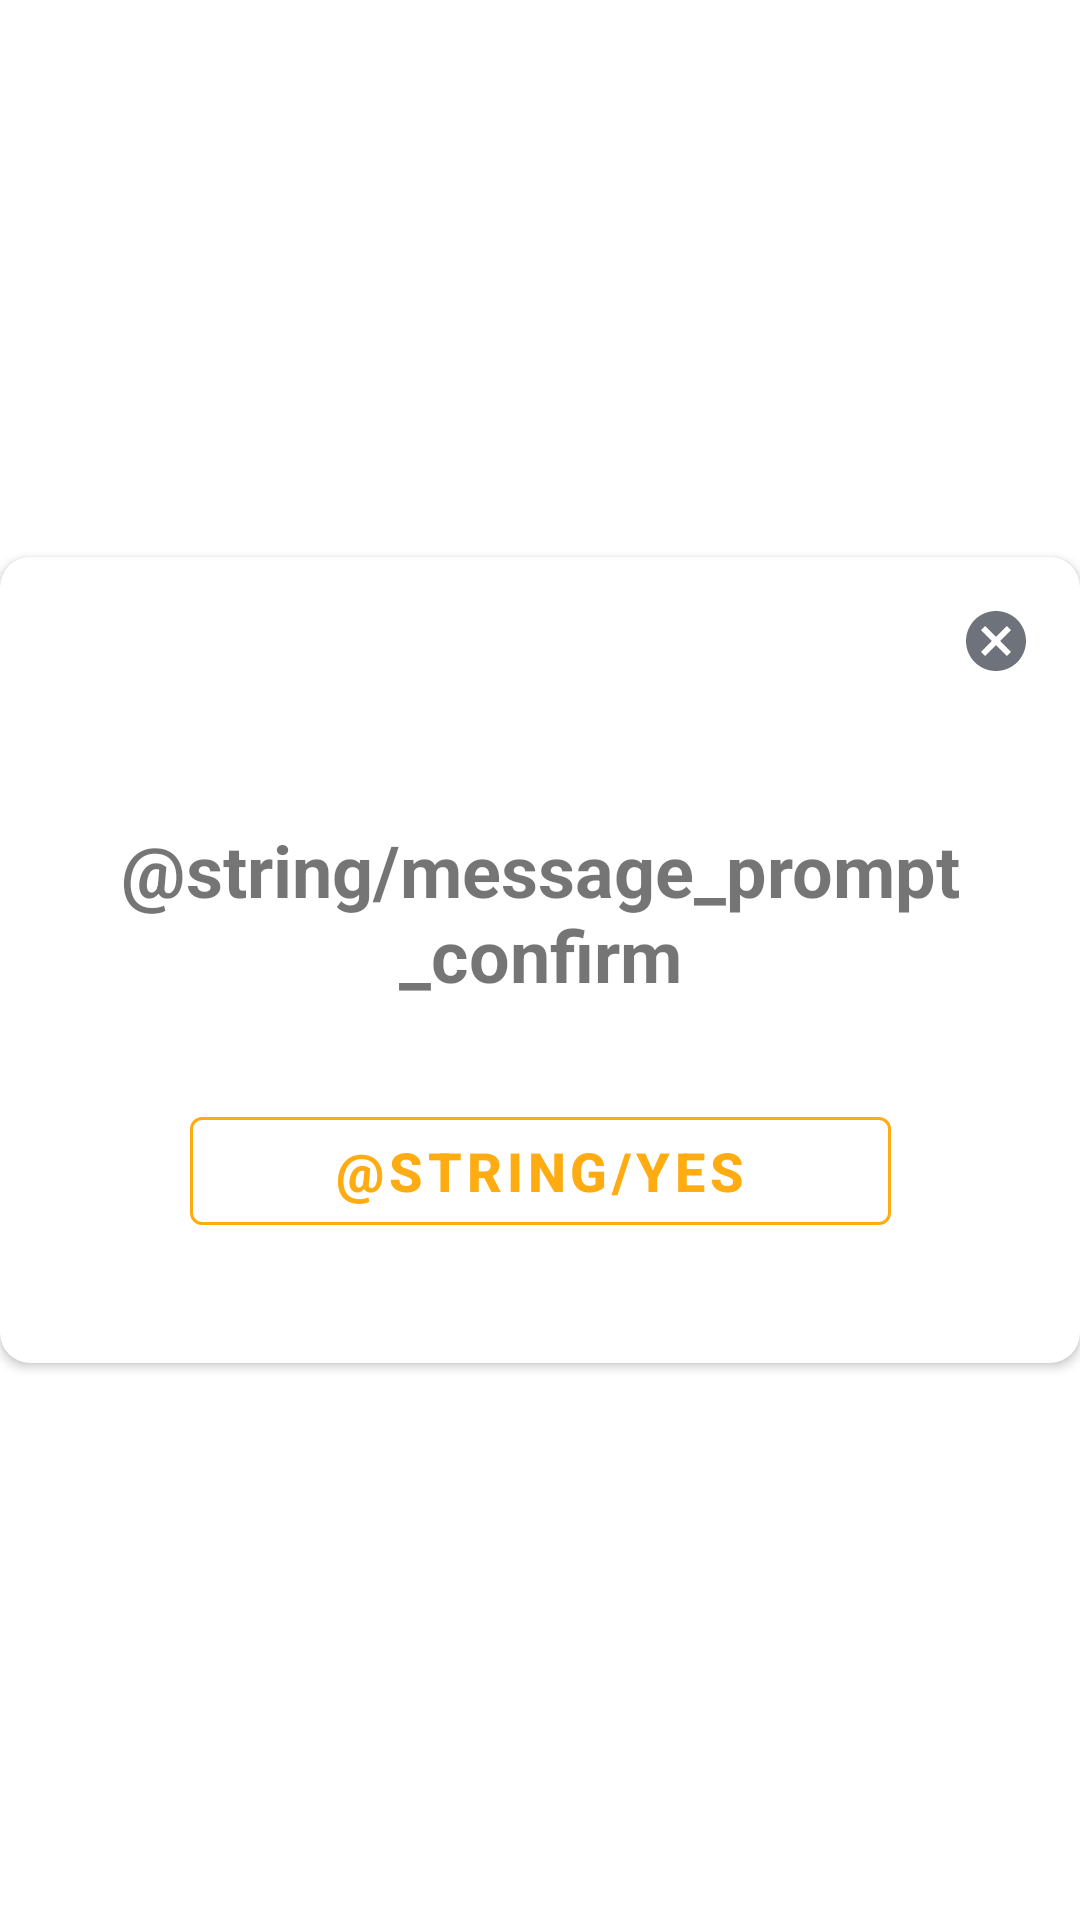

Named icons in this screenshot (1080px x 1920px) and their centers, (x=x, y=y):
dial cancel: (x=996, y=641)
